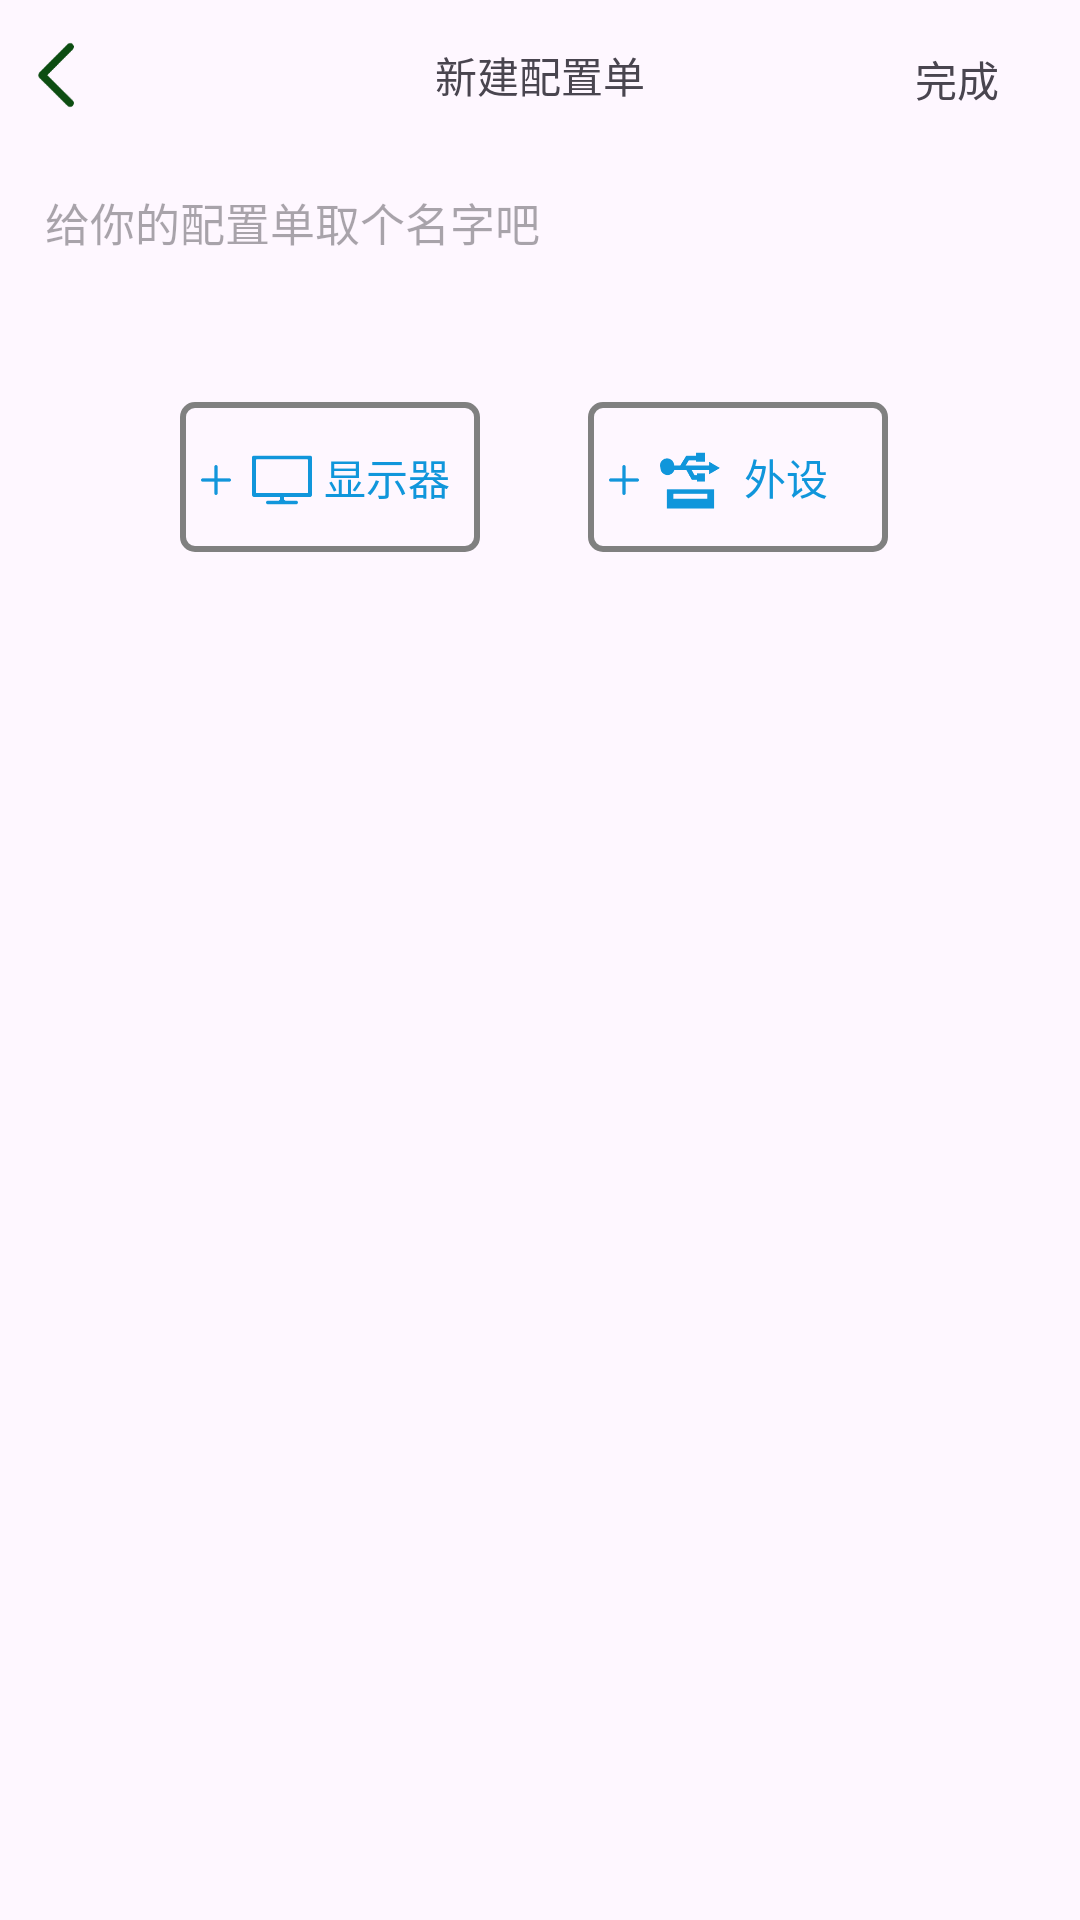

Icons on this 1080x1920 Android screen, each with its box as (x1, y1, x2, y2):
add: (201, 465, 231, 495), (609, 465, 639, 495)
back: (38, 43, 74, 107)
